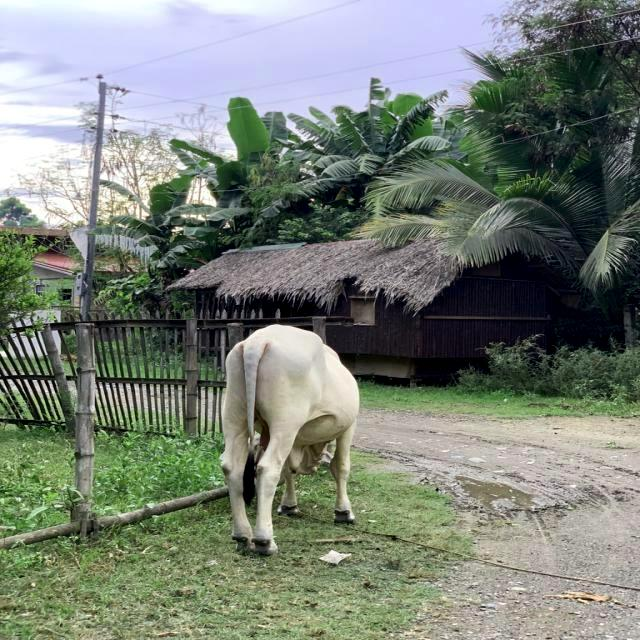COW: (222, 325, 359, 554)
